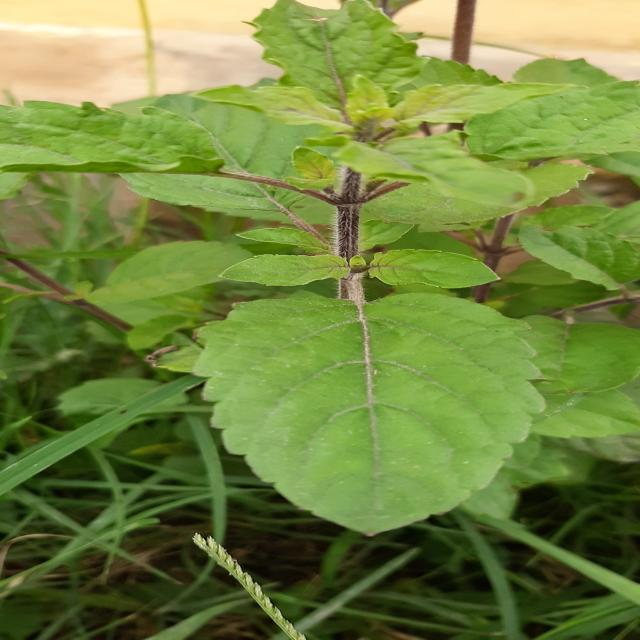tulsi: (192, 292, 545, 534)
